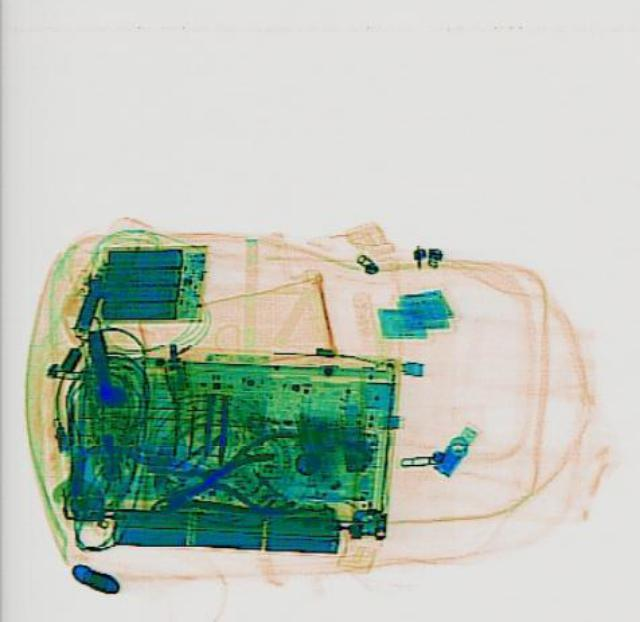Pliers: (148, 448, 286, 533), (188, 429, 294, 510)
